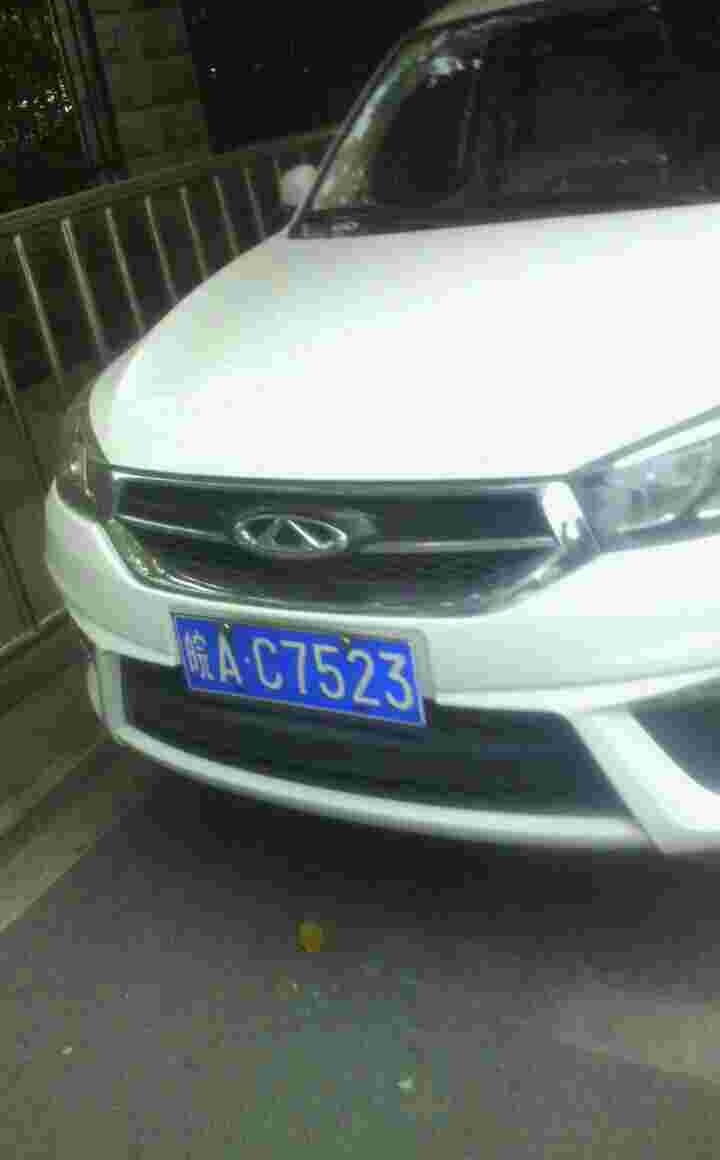license_plate: (178, 620, 427, 727)
